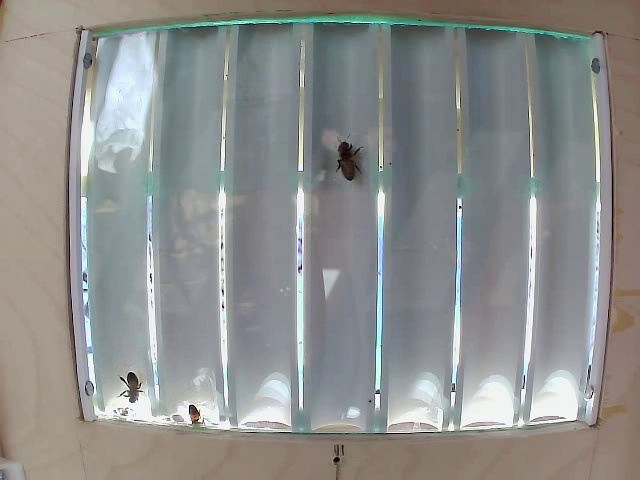bee: (315, 140, 360, 190)
